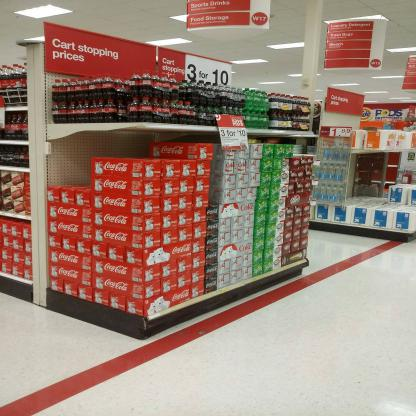Void: (51, 140, 87, 183), (100, 134, 146, 156)
